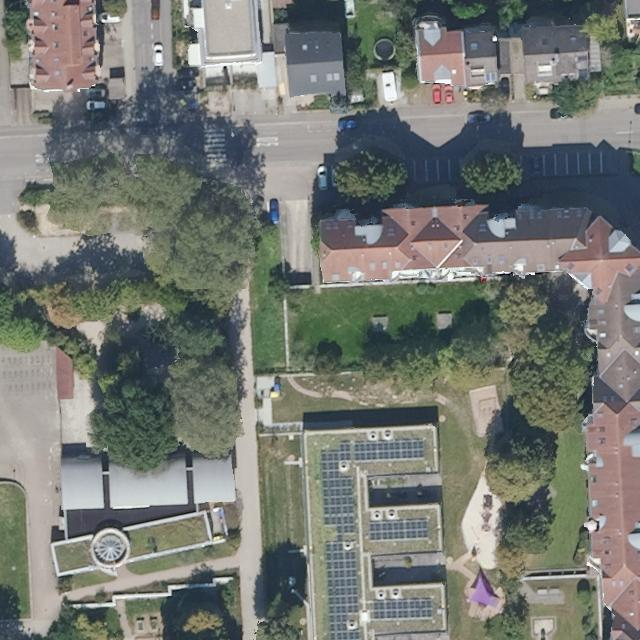PV: (315, 436, 438, 639)
